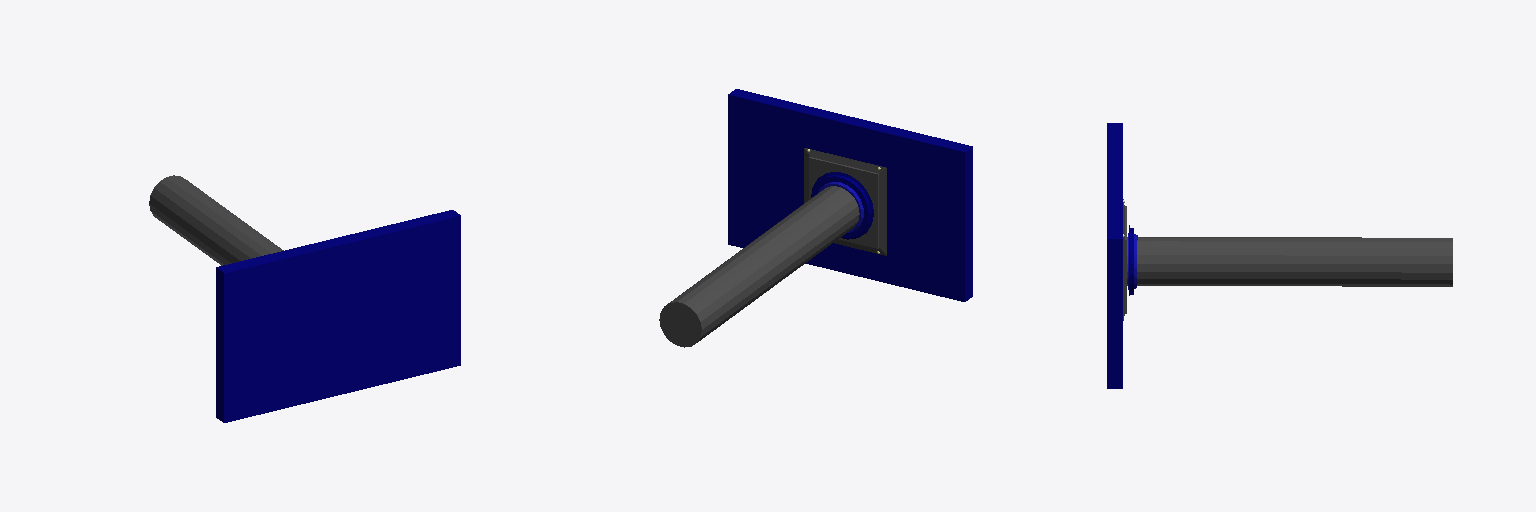
The model's file is wall_piston.obj.
3 renders of one model, left to right at view 1: azimuth 30°, elevation 25°; view 2: azimuth 150°, elevation 25°; view 3: azimuth 270°, elevation 25°, orthographic.
Parts seen in each view (by area): view 1: Box002, Cylinder001; view 2: Box002, Cylinder001, Box004, Cylinder005; view 3: Cylinder001, Box002.
Boxes of the visible parts, box(x1,y1,x2,y2) form: Box002: box(216, 210, 460, 422); Cylinder001: box(149, 175, 283, 265); Box002: box(728, 89, 972, 301); Cylinder001: box(659, 186, 859, 347); Box004: box(804, 148, 886, 255); Cylinder005: box(811, 172, 873, 239); Cylinder001: box(1127, 237, 1452, 286); Box002: box(1107, 123, 1122, 388).
Bounding box in the file's own units: 93.58 × 56.8 × 118.